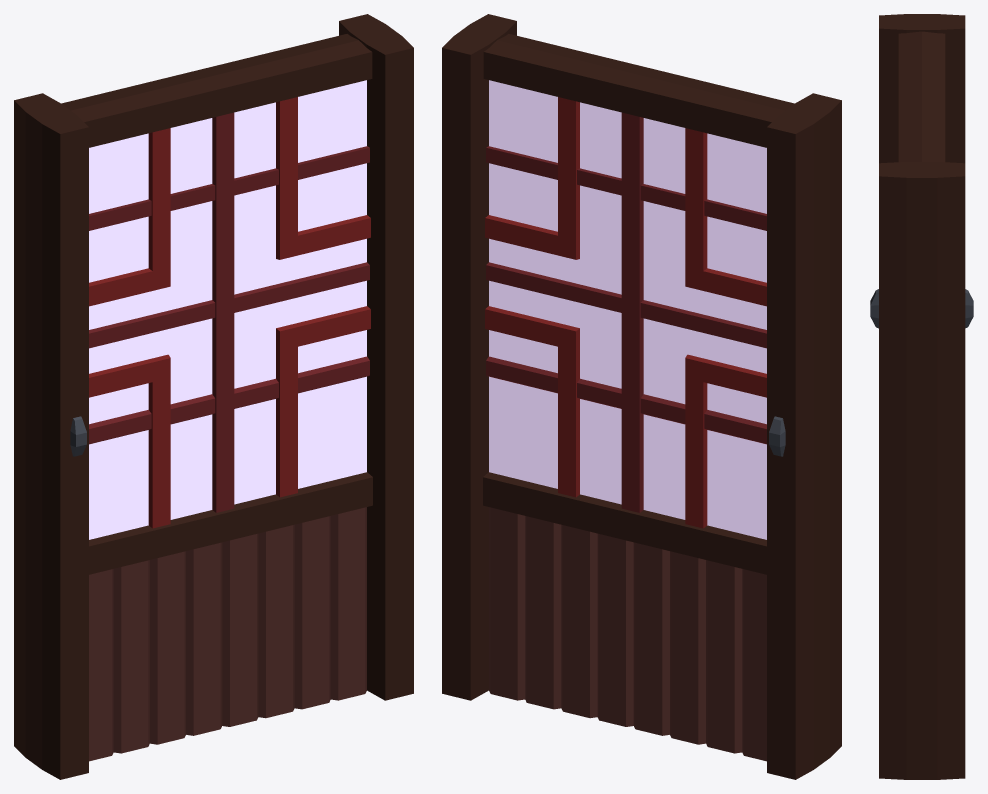
Rendered from Door_2_1  Asia.fbx.
3 renders of one model, left to right at view 1: azimuth 30°, elevation 25°; view 2: azimuth 150°, elevation 25°; view 3: azimuth 270°, elevation 25°, orthographic. The views are drawn at different scales.
Visible parts, largest first — view 1: Door_2_1; view 2: Door_2_1; view 3: Door_2_1.
Boxes of the visible parts, left/top/right/bottom form: Door_2_1: left=14, top=14, right=413, bottom=779; Door_2_1: left=442, top=14, right=841, bottom=779; Door_2_1: left=870, top=14, right=973, bottom=779.
Size of the model in its own units: 1.14 by 1.96 by 0.3032.
